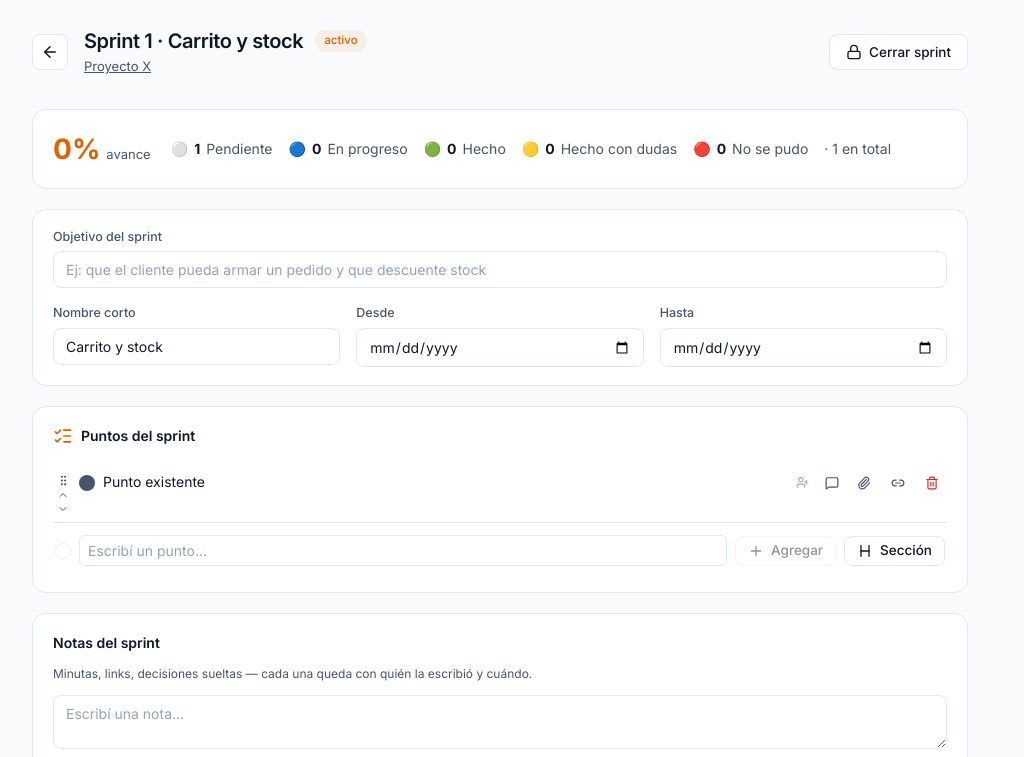
it: SprintDetalle — puntos › el botón "Agregar" suma el punto sin depender de Enter
Type "Desde el botón" into the field with placeholder "Escribí un punto…".
click(403, 550); type("Desde el botón")  # box [79,535,727,566]
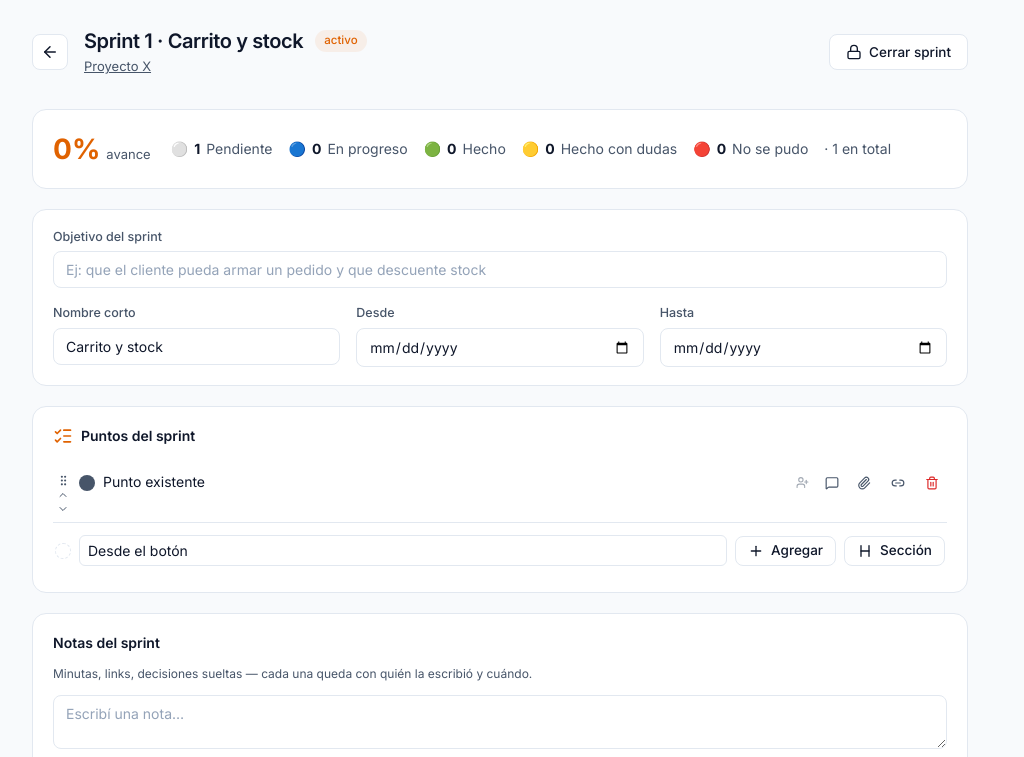
Click the button "Agregar".
click(786, 550)  # box [735,536,836,566]
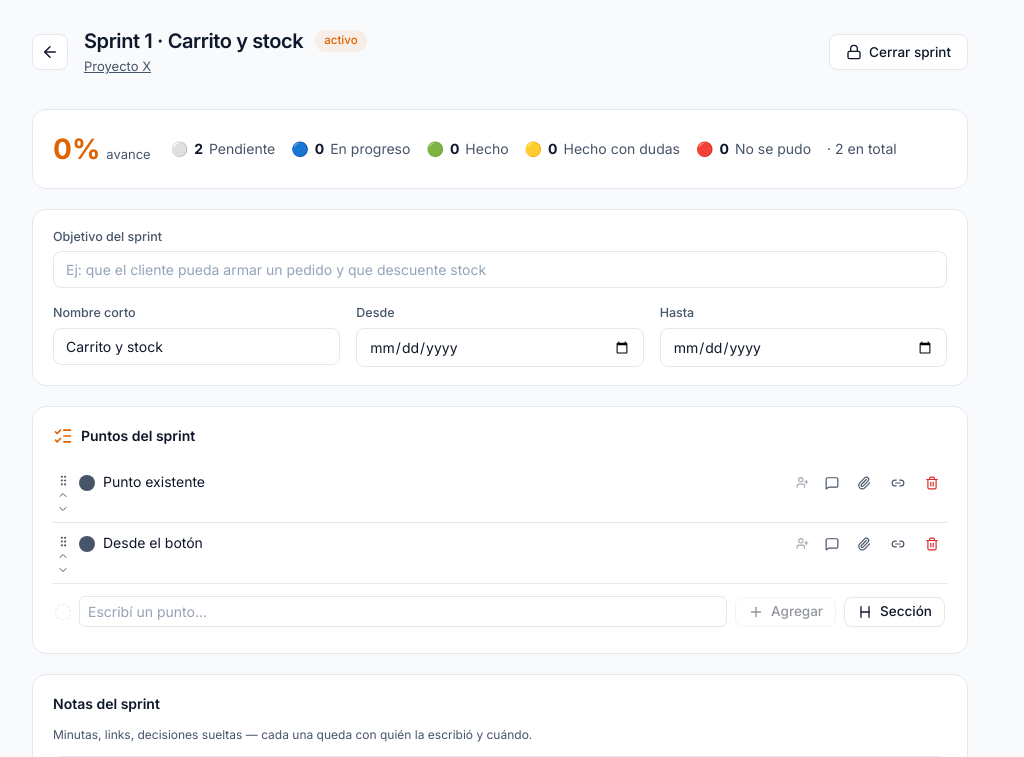
Expected: the text "Desde el botón" is shown, [103,534,203,551]
